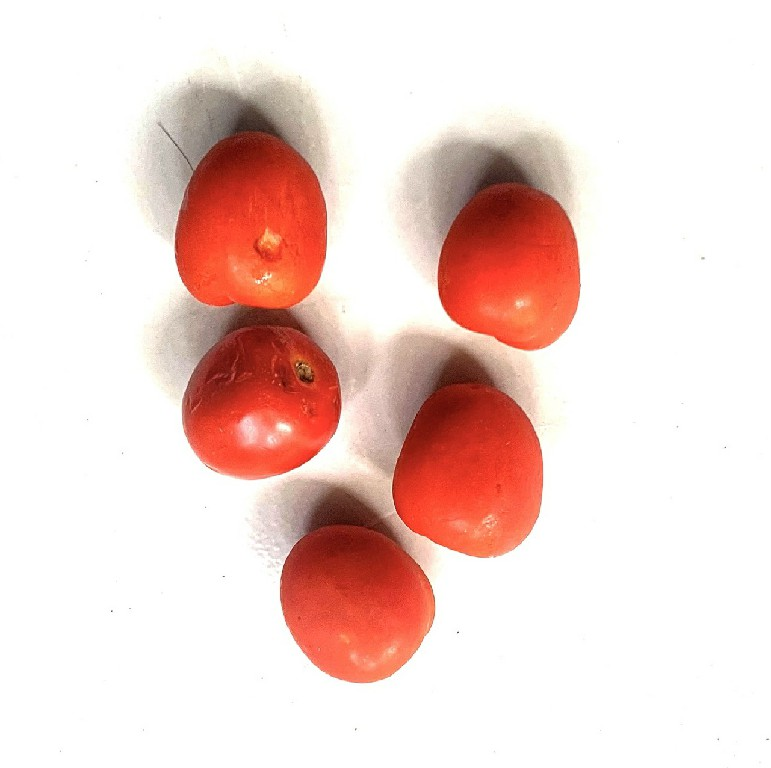NG: (174, 129, 326, 312), (179, 326, 341, 480)
OK: (390, 381, 549, 563), (274, 523, 436, 687), (434, 173, 581, 352)
